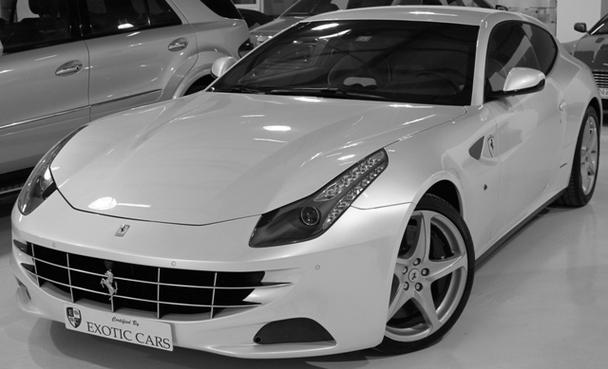car: (6, 1, 608, 367)
